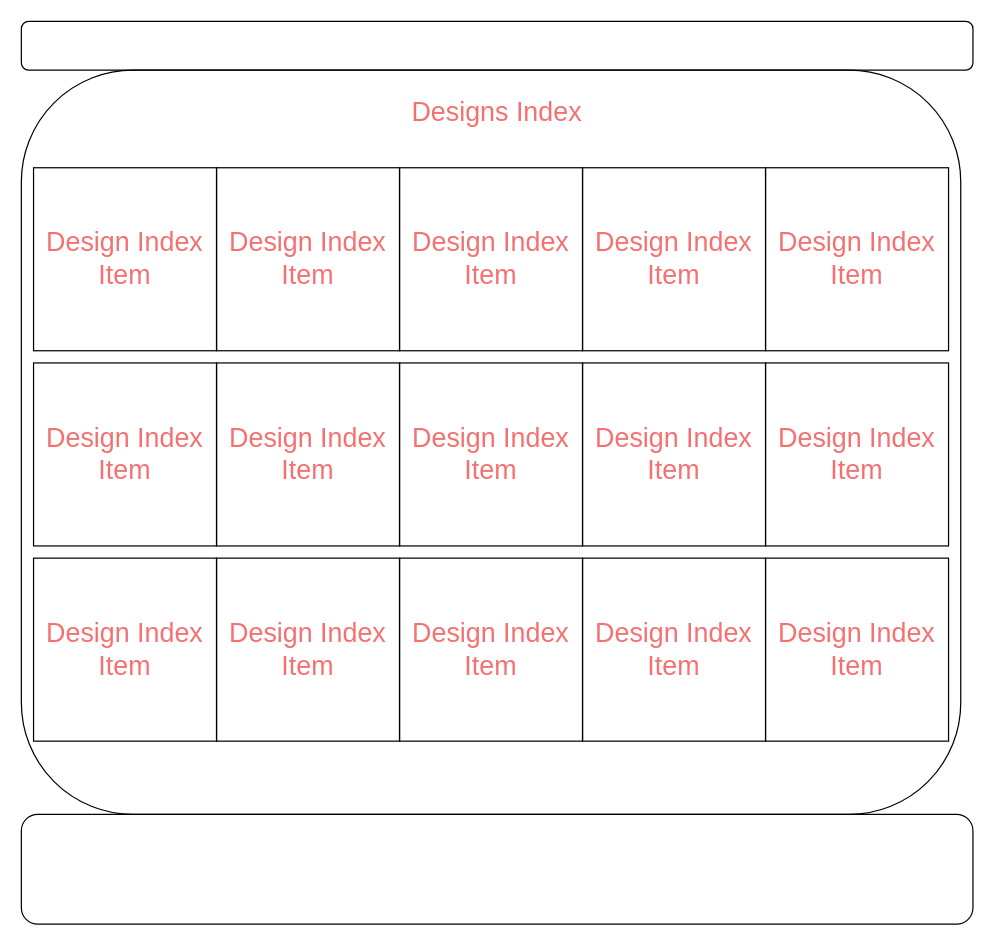
Some shapes in this 994 by 946 pixel diagram are drawn without their labels. Here are the shapes that lost their labels. From the top down, the centre of each, then its label:
the point at 496,45: Navbar
the point at 496,868: Footer
